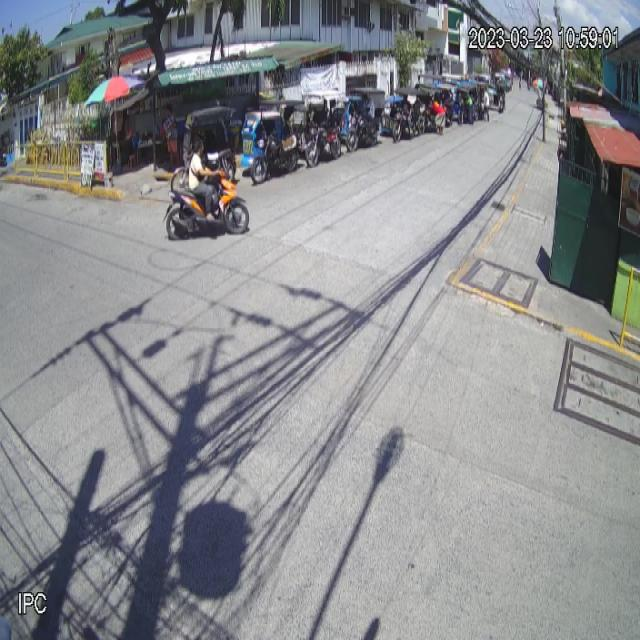Motorcycle: (162, 158, 251, 242)
